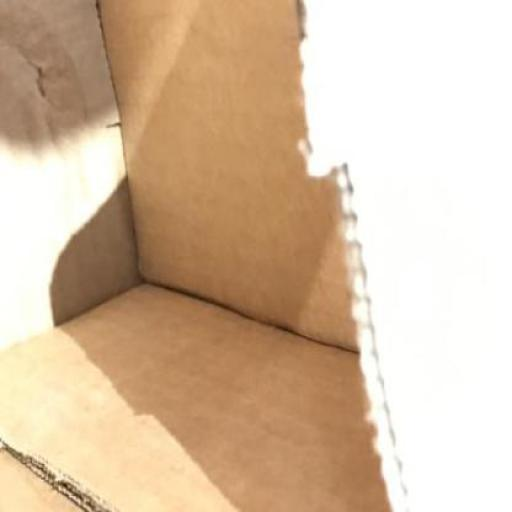cardboard: (0, 1, 409, 511)
